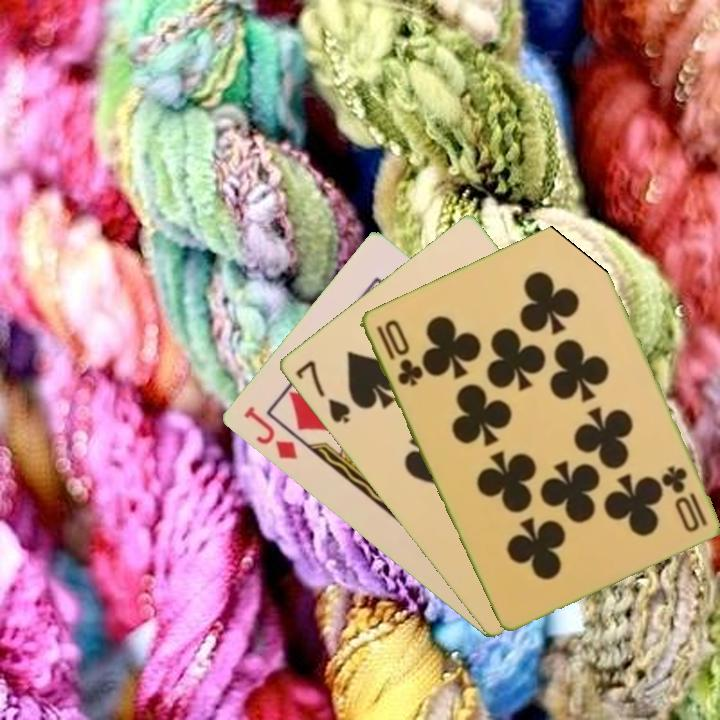10c: (372, 315, 425, 390), (659, 462, 710, 535)
7s: (291, 357, 353, 427)
Jd: (239, 403, 300, 463)
